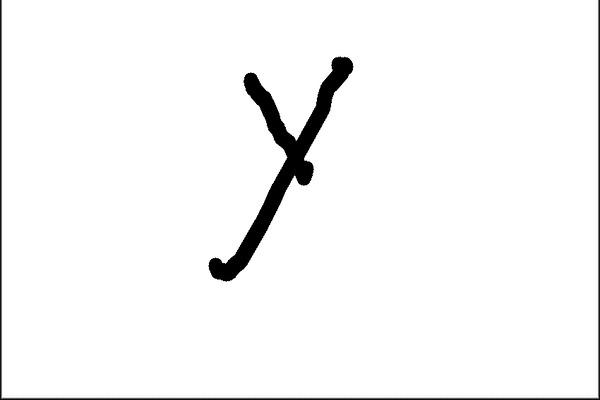Y: (186, 38, 368, 297)
